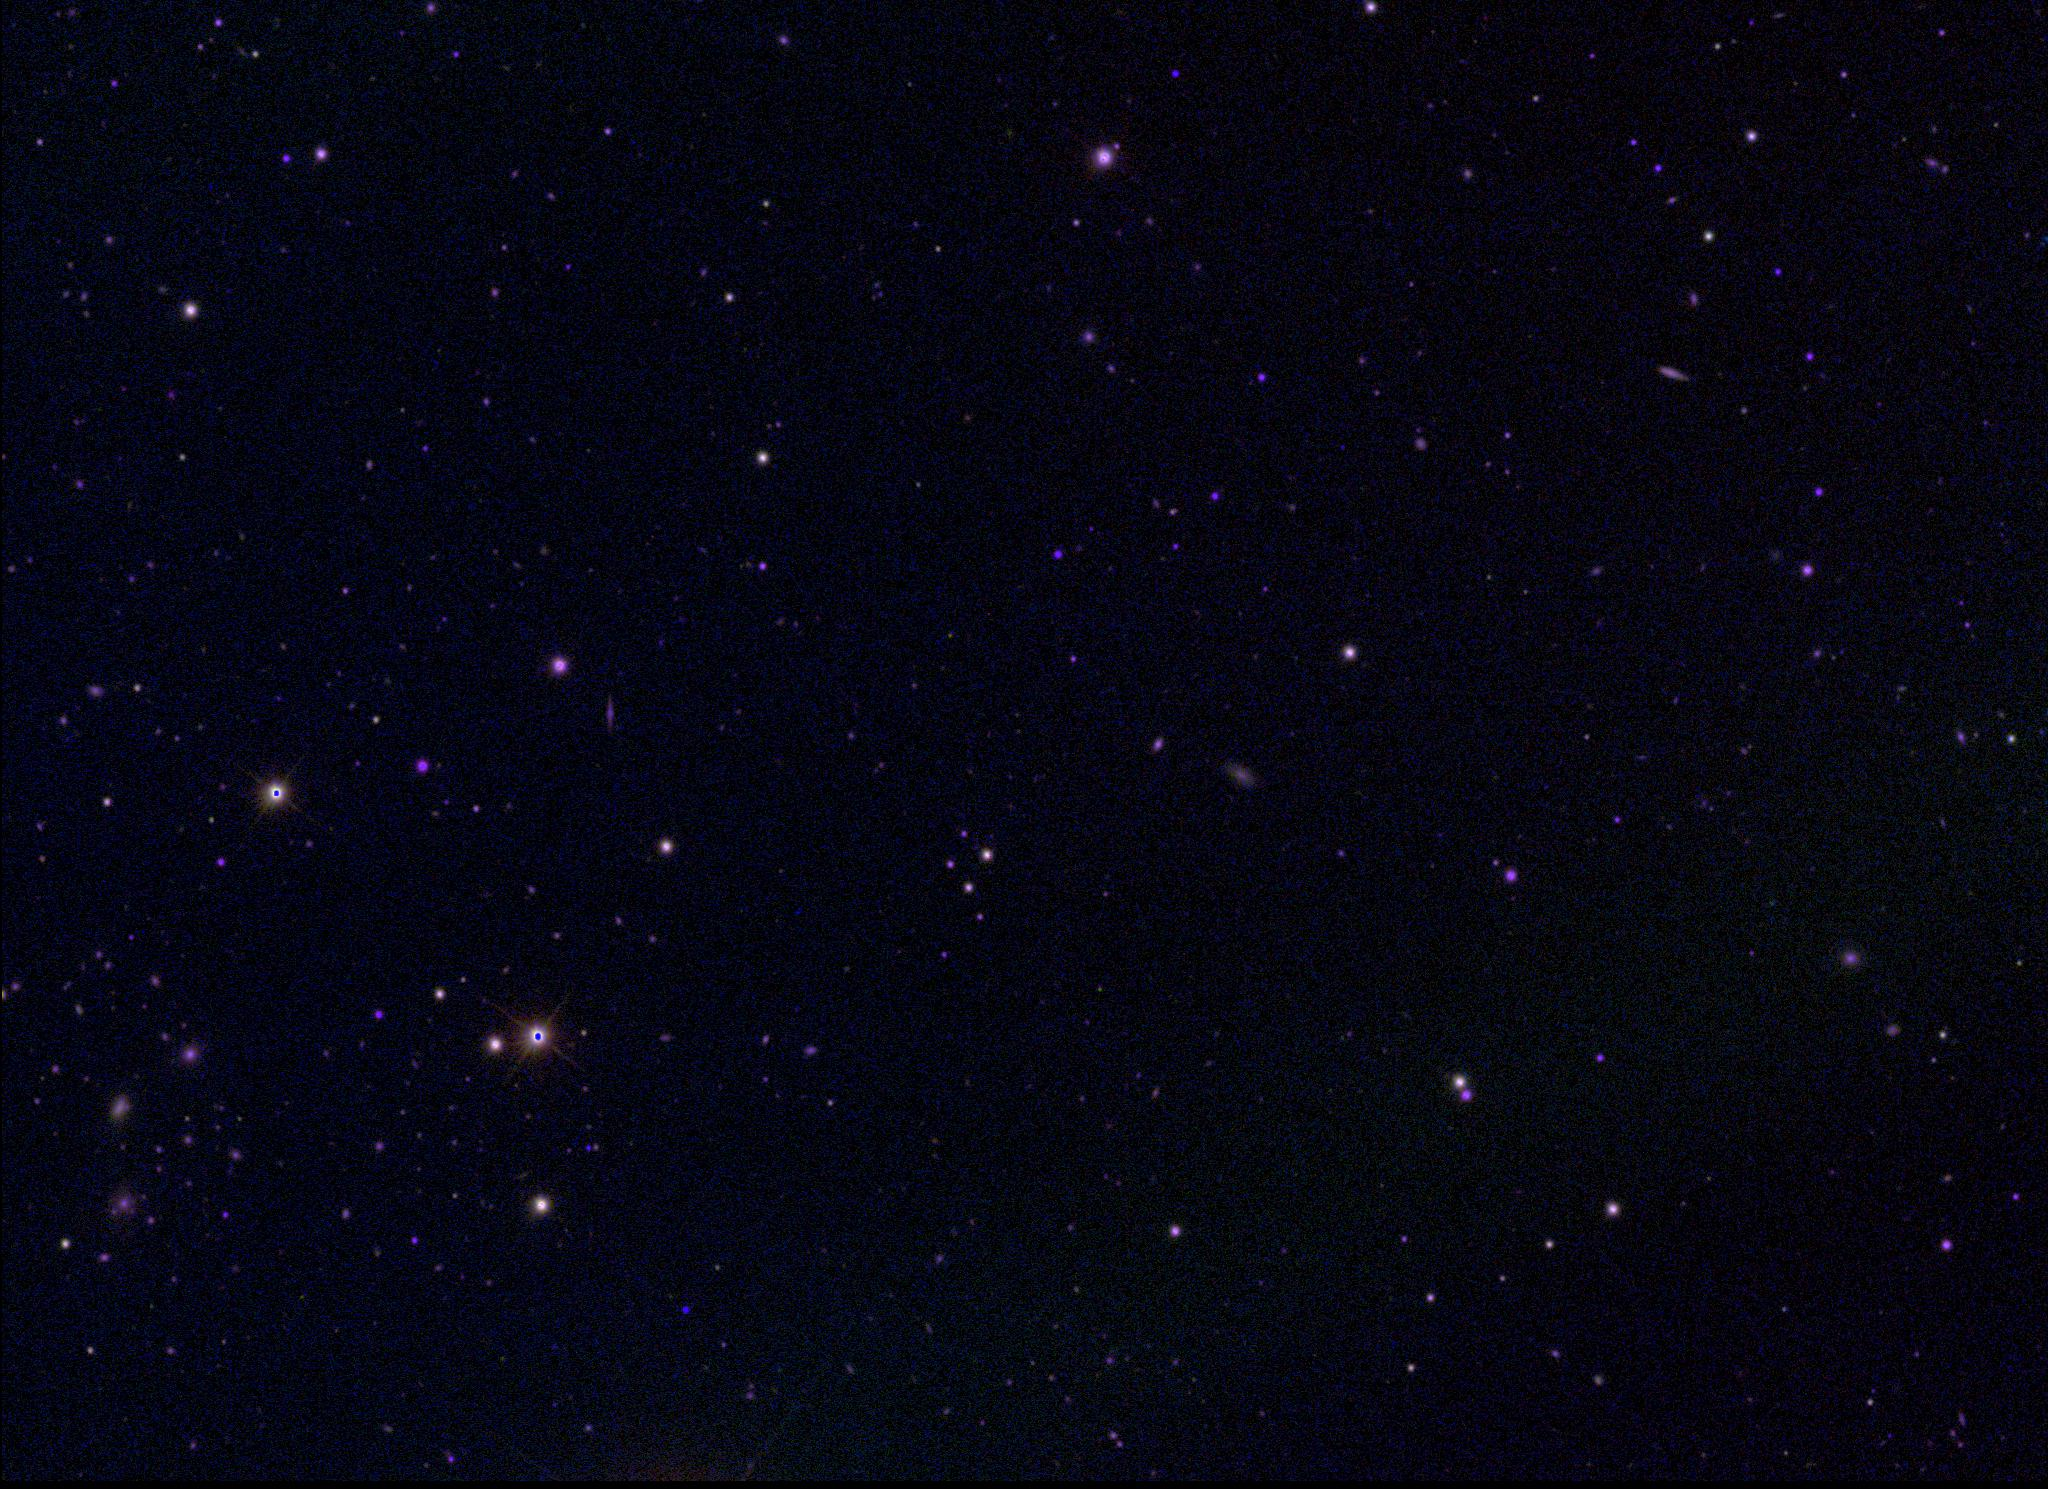L: (677, 1303, 692, 1317)
